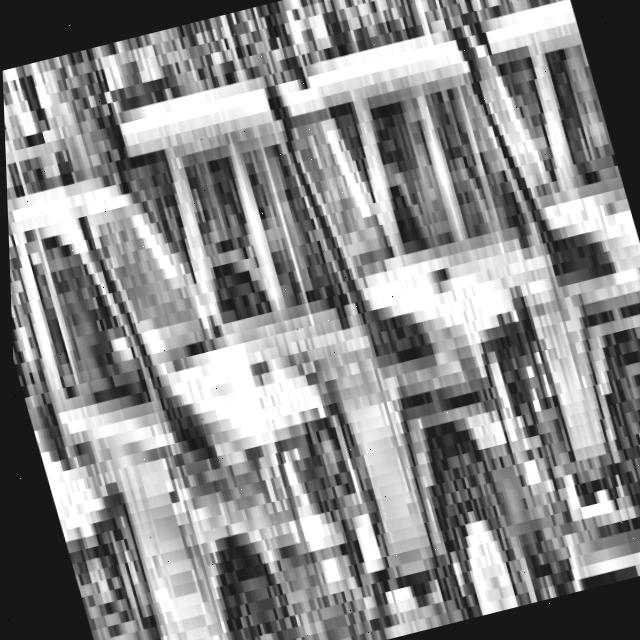light_vehicle: (0, 4, 437, 640), (194, 0, 597, 640), (421, 0, 640, 587)
